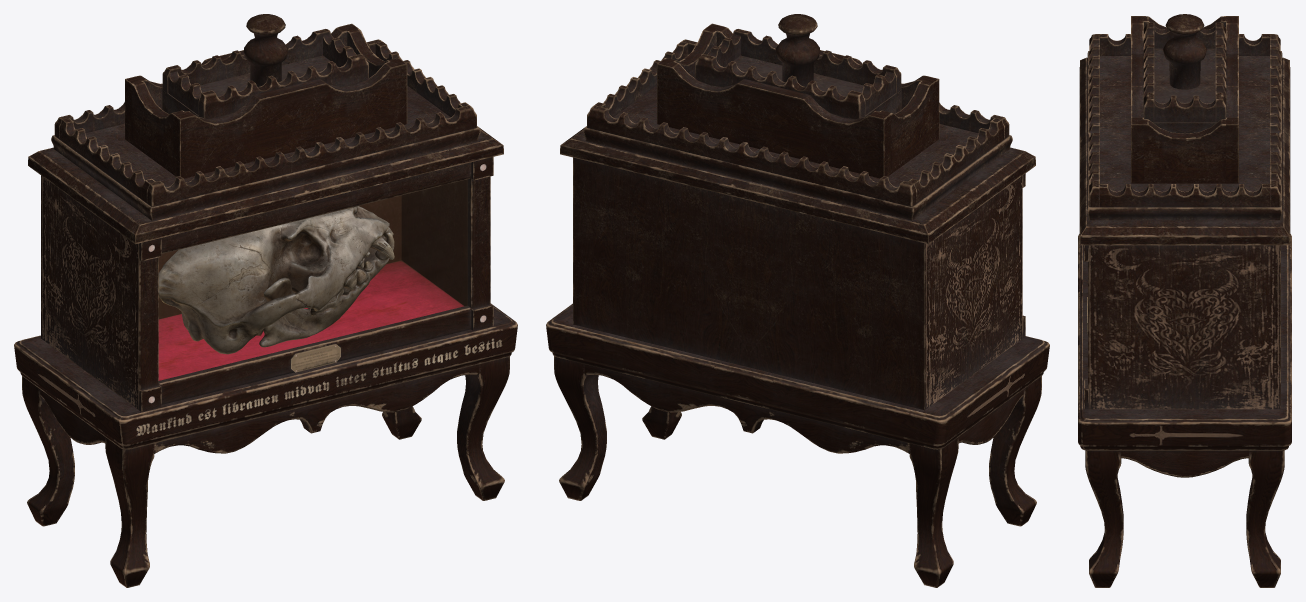
File: antique_curiosity_skull_cabinet.glb
3 views of the same model, side by side, from view 1: azimuth 30°, elevation 25°; view 2: azimuth 150°, elevation 25°; view 3: azimuth 270°, elevation 25° (orthographic). The views are drawn at different scales.
Parts seen in each view (by area): view 1: Cabinet, Glass, Skull; view 2: Cabinet; view 3: Cabinet.
Part boxes in pixels (x1,y1,x2,y2): Cabinet: (14,14,517,587); Glass: (159,179,469,381); Skull: (158,206,394,354); Cabinet: (546,14,1049,587); Cabinet: (1078,14,1291,587).
Bounding box in the file's own units: 1.09 × 1.28 × 0.5161.
3 materials, 3 textured.
